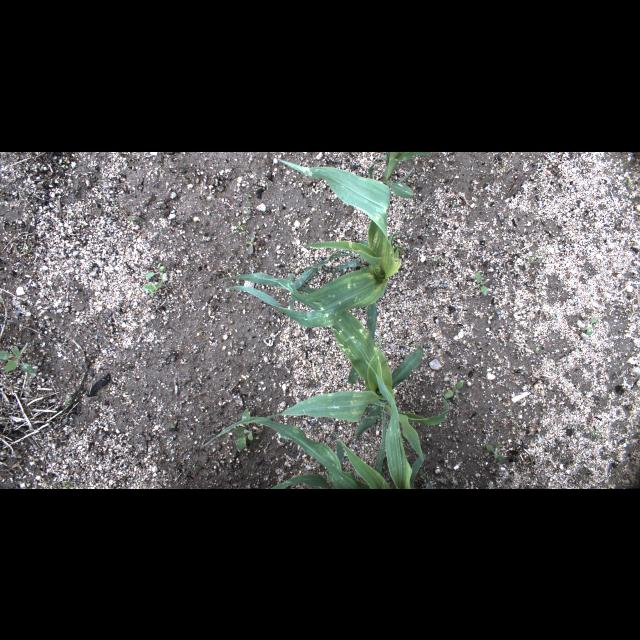crop: (218, 157, 404, 385), (260, 276, 450, 484), (202, 360, 458, 488), (370, 152, 430, 196)
weed: (0, 340, 36, 376), (232, 408, 260, 452), (444, 379, 466, 403), (471, 271, 491, 295), (225, 218, 249, 236), (144, 262, 168, 280), (192, 458, 220, 472), (486, 443, 504, 462), (142, 281, 162, 297), (589, 423, 609, 439), (245, 232, 259, 254), (528, 248, 544, 262), (585, 317, 597, 335), (242, 200, 255, 213), (52, 481, 76, 487), (622, 178, 632, 188), (126, 216, 144, 220), (244, 190, 252, 198), (491, 311, 495, 317), (488, 170, 494, 174)
